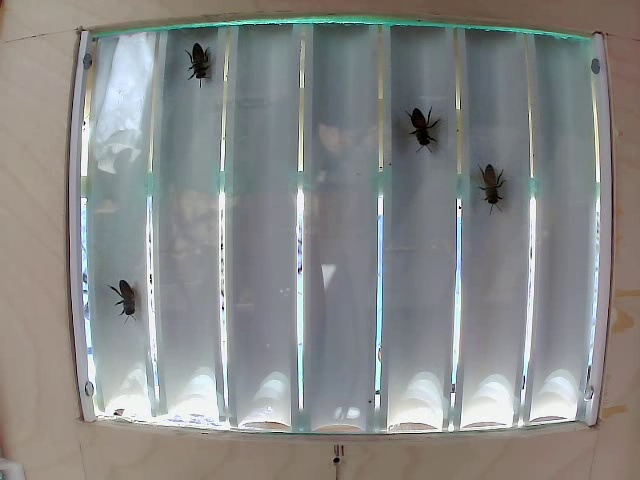bee: (474, 153, 509, 215), (404, 108, 441, 157), (184, 37, 216, 91), (99, 272, 133, 313)
